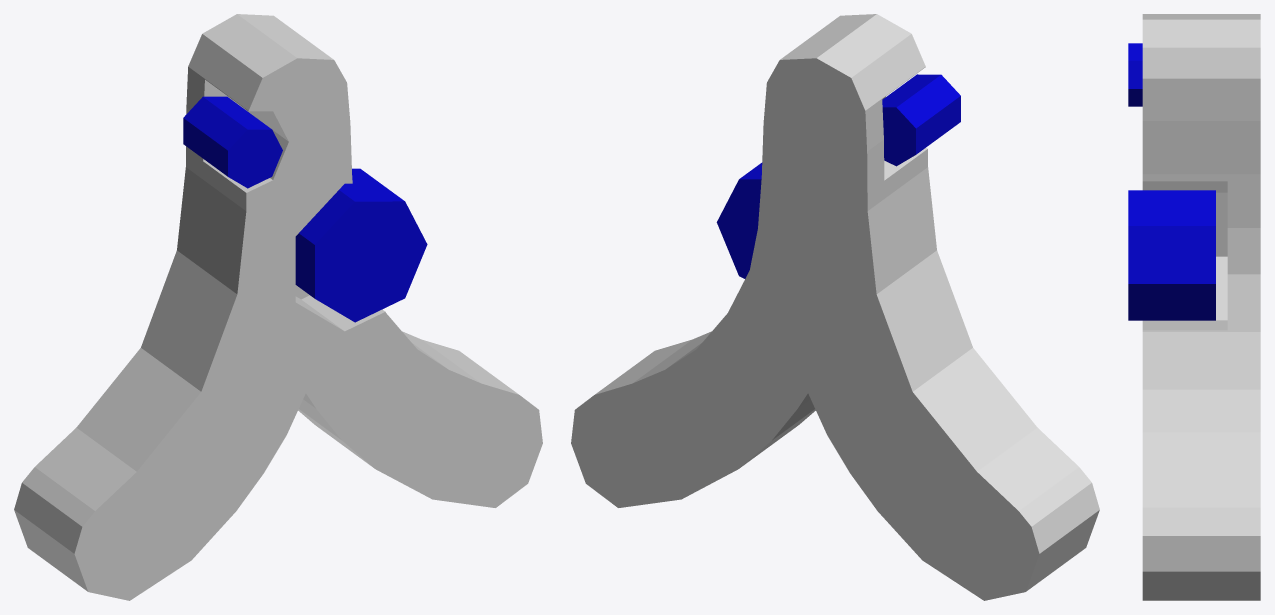
The model's file is Ch_Lite_China_人_01.fbx.
3 renders of one model, left to right at view 1: azimuth 30°, elevation 25°; view 2: azimuth 150°, elevation 25°; view 3: azimuth 270°, elevation 25°, orthographic. The views are drawn at different scales.
Visible parts, largest first — view 1: sphere1; view 2: sphere1; view 3: sphere1.
Part boxes in pixels (box(x1,y1,x2,y2)): sphere1: box(14, 14, 542, 600); sphere1: box(571, 14, 1099, 600); sphere1: box(1128, 14, 1260, 600).
Bounding box in the file's own units: 0.8945 × 0.9155 × 0.2242.
